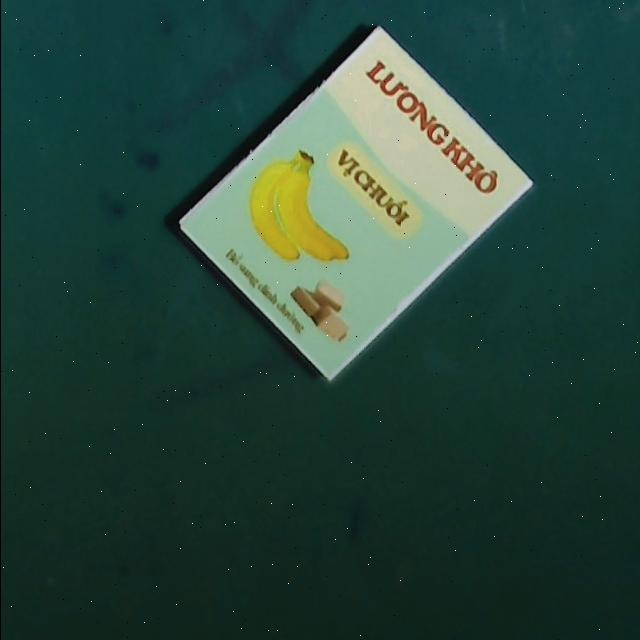chuoi: (175, 24, 534, 382)
